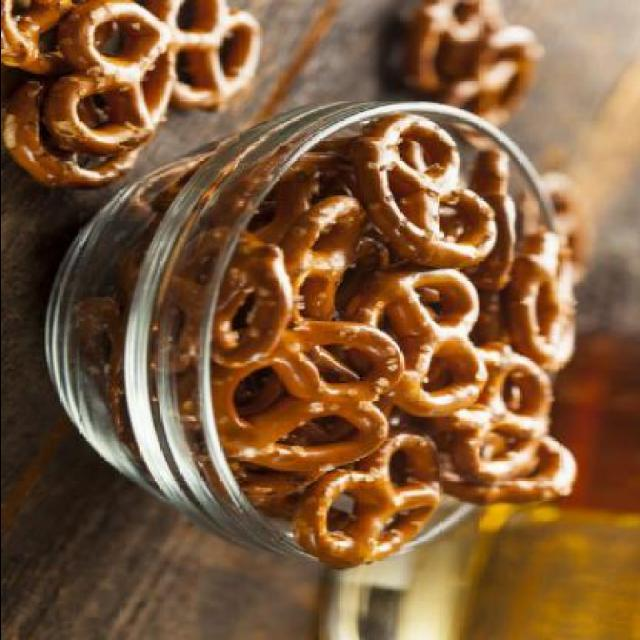Salatini packaged: (214, 108, 580, 577), (2, 2, 250, 190)
